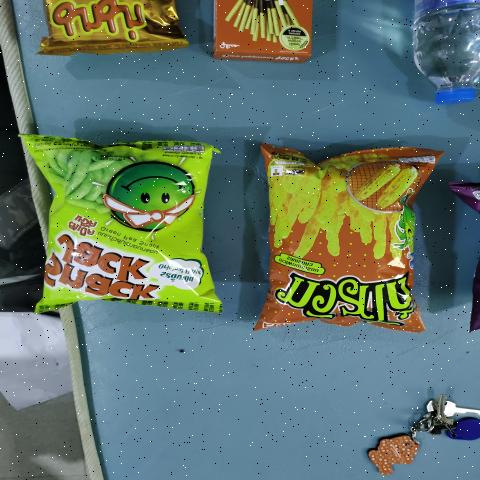snack_jack: (39, 150, 206, 299)
twisco: (276, 160, 411, 328)
